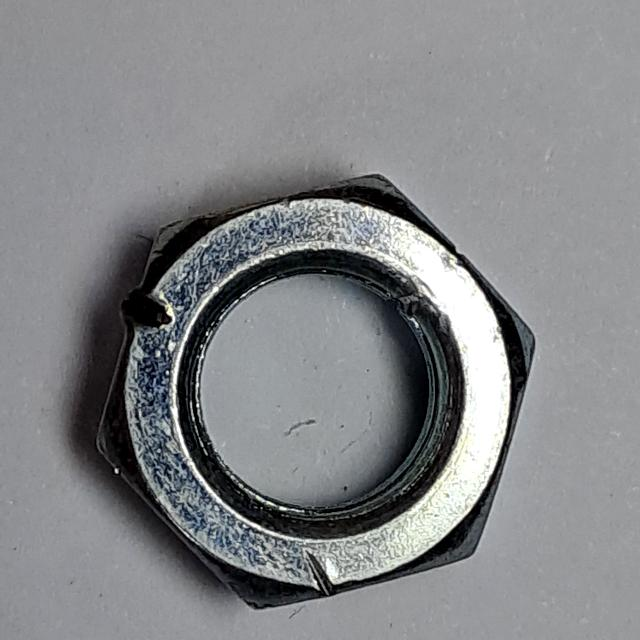Scratches: (87, 160, 552, 629)
